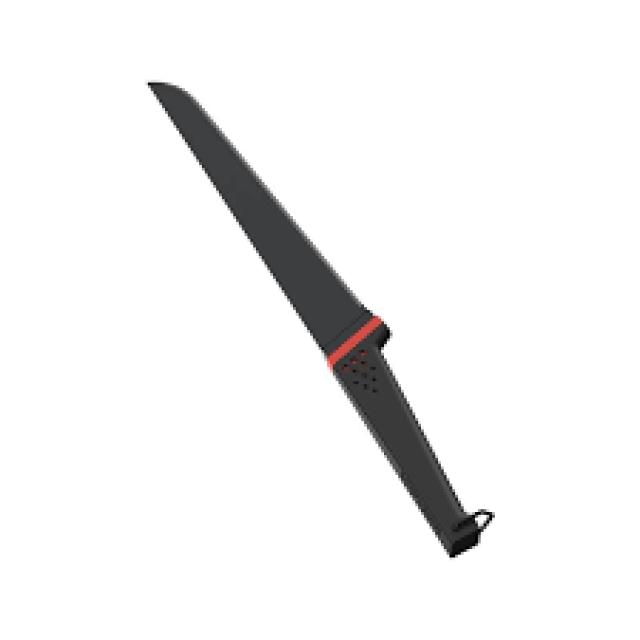Knife: (145, 77, 492, 557)
